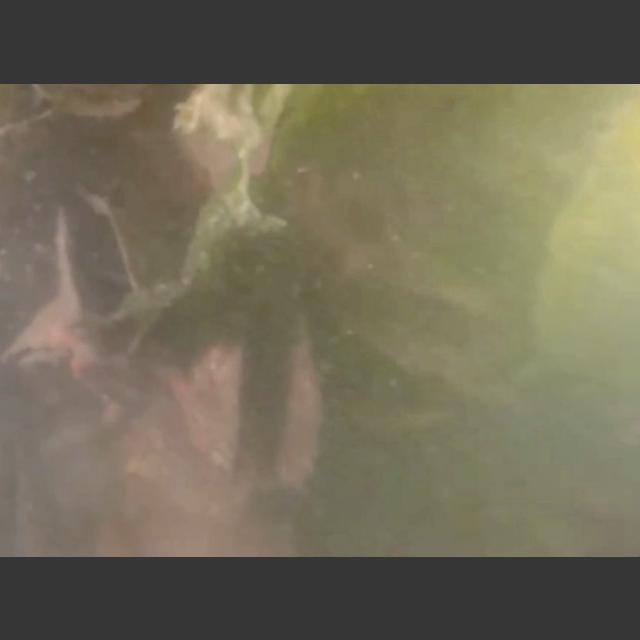Oyster-Open: (172, 303, 324, 489), (55, 188, 143, 324), (0, 292, 80, 370)
